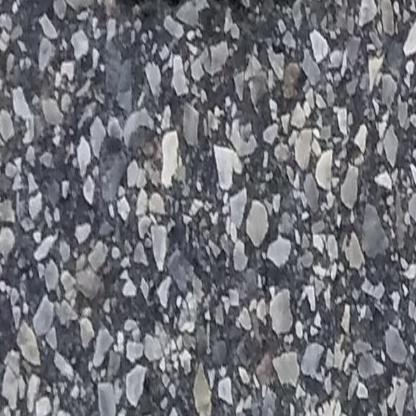Cracks: (95, 0, 336, 114)
